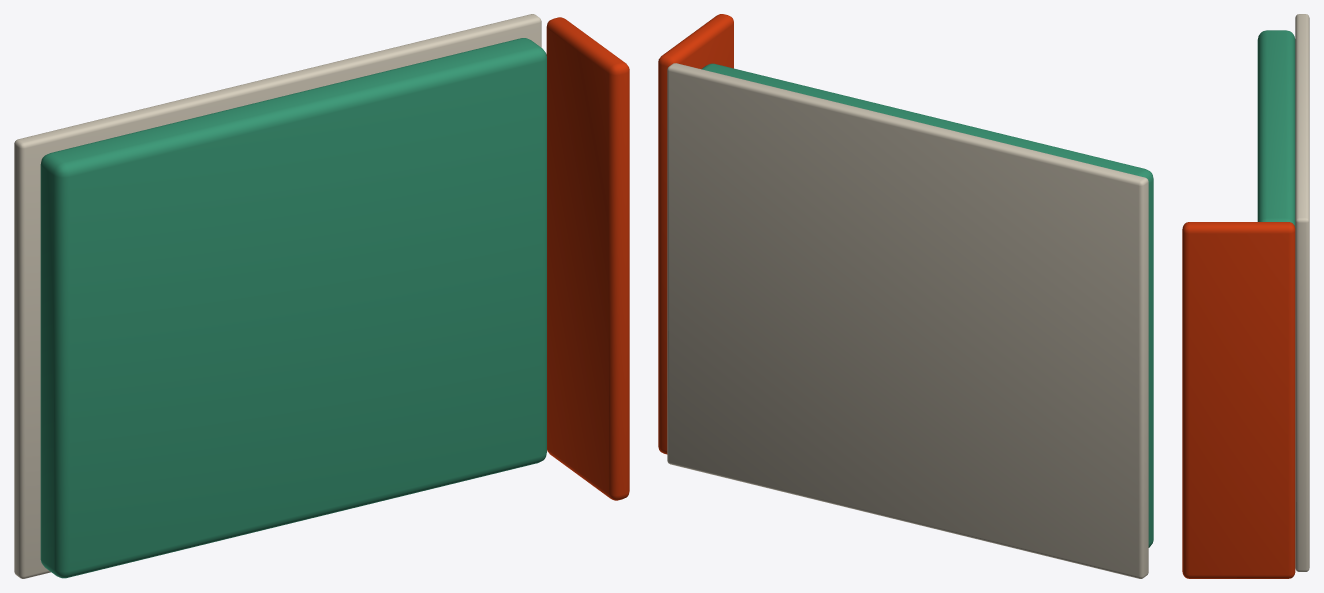
Rendered from cutter_door.obj.
The picture shows the model from 3 angles, left to right: view 1: azimuth 30°, elevation 25°; view 2: azimuth 150°, elevation 25°; view 3: azimuth 270°, elevation 25°; orthographic projection. The views are drawn at different scales.
Parts seen in each view (by area): view 1: foam_pad, soft_lip, door; view 2: door, soft_lip, foam_pad; view 3: soft_lip, door, foam_pad.
Boxes of the visible parts, bbox=[...] form: foam_pad: bbox=[40, 38, 546, 578]; soft_lip: bbox=[546, 17, 629, 500]; door: bbox=[14, 14, 541, 578]; door: bbox=[667, 63, 1148, 578]; soft_lip: bbox=[658, 14, 733, 454]; foam_pad: bbox=[701, 63, 1153, 547]; soft_lip: bbox=[1182, 222, 1295, 578]; door: bbox=[1295, 14, 1309, 571]; foam_pad: bbox=[1257, 30, 1295, 227].
Size of the model in its own units: 0.108 by 0.083 by 0.027.
